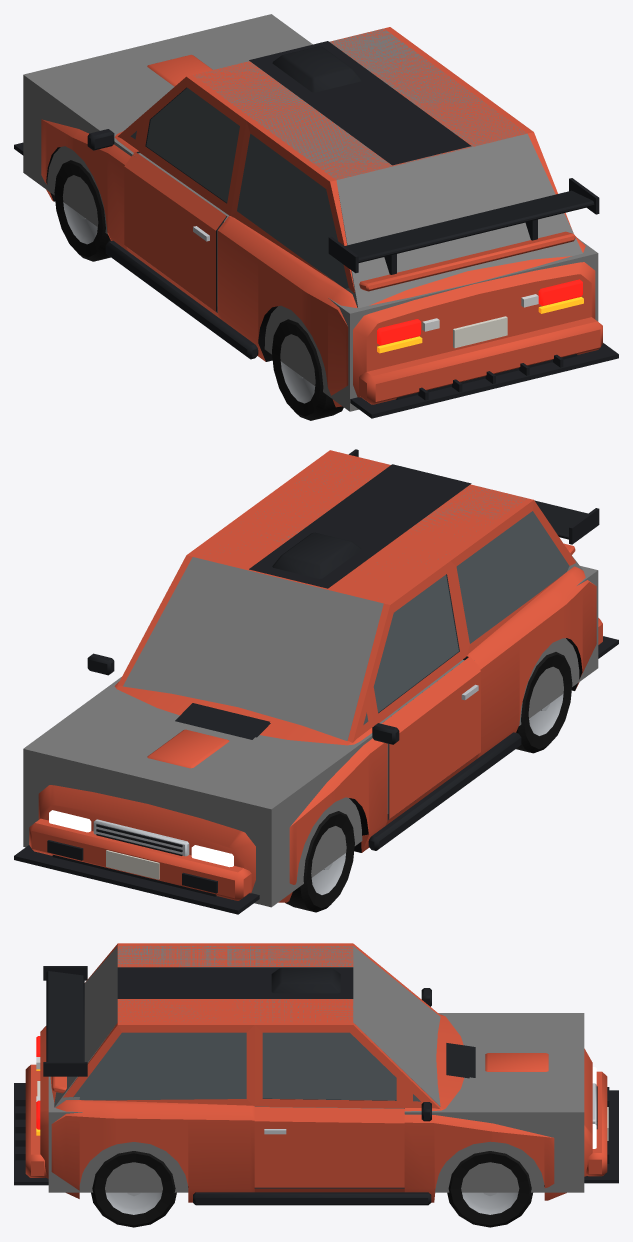
File: compact.glb
3 views of the same model, one above another, from view 1: azimuth 30°, elevation 25°; view 2: azimuth 150°, elevation 25°; view 3: azimuth 270°, elevation 25° (orthographic). The views are drawn at different scales.
Visible parts, largest first — view 1: compact, compact_Body, compact_Cabin, compact_Door_FL, compact_Wheel_RL, compact_Wheel_FL; view 2: compact, compact_Cabin, compact_Body, compact_Door_FL, compact_Wheel_FL, compact_Wheel_RL; view 3: compact, compact_Cabin, compact_Body, compact_Door_FR, compact_Wheel_FR, compact_Wheel_RR.
Boxes of the visible parts, box(x1,y1,x2,y2) form: compact: box(14, 14, 618, 418); compact_Body: box(41, 119, 595, 407); compact_Cabin: box(117, 27, 573, 293); compact_Door_FL: box(124, 76, 246, 311); compact_Wheel_RL: box(272, 319, 343, 420); compact_Wheel_FL: box(54, 160, 110, 261); compact: box(14, 449, 618, 914); compact_Cabin: box(117, 450, 575, 742); compact_Body: box(38, 566, 596, 902); compact_Door_FL: box(368, 561, 480, 818); compact_Wheel_FL: box(285, 811, 354, 912); compact_Wheel_RL: box(516, 652, 572, 753); compact: box(14, 946, 618, 1205); compact_Cabin: box(63, 943, 440, 1109); compact_Body: box(36, 988, 596, 1202); compact_Door_FR: box(254, 1025, 404, 1187); compact_Wheel_FR: box(447, 1151, 532, 1227); compact_Wheel_RR: box(91, 1151, 176, 1227).
Size of what is drawn, in the model's own units: 1.98 by 1.53 by 4.11.
